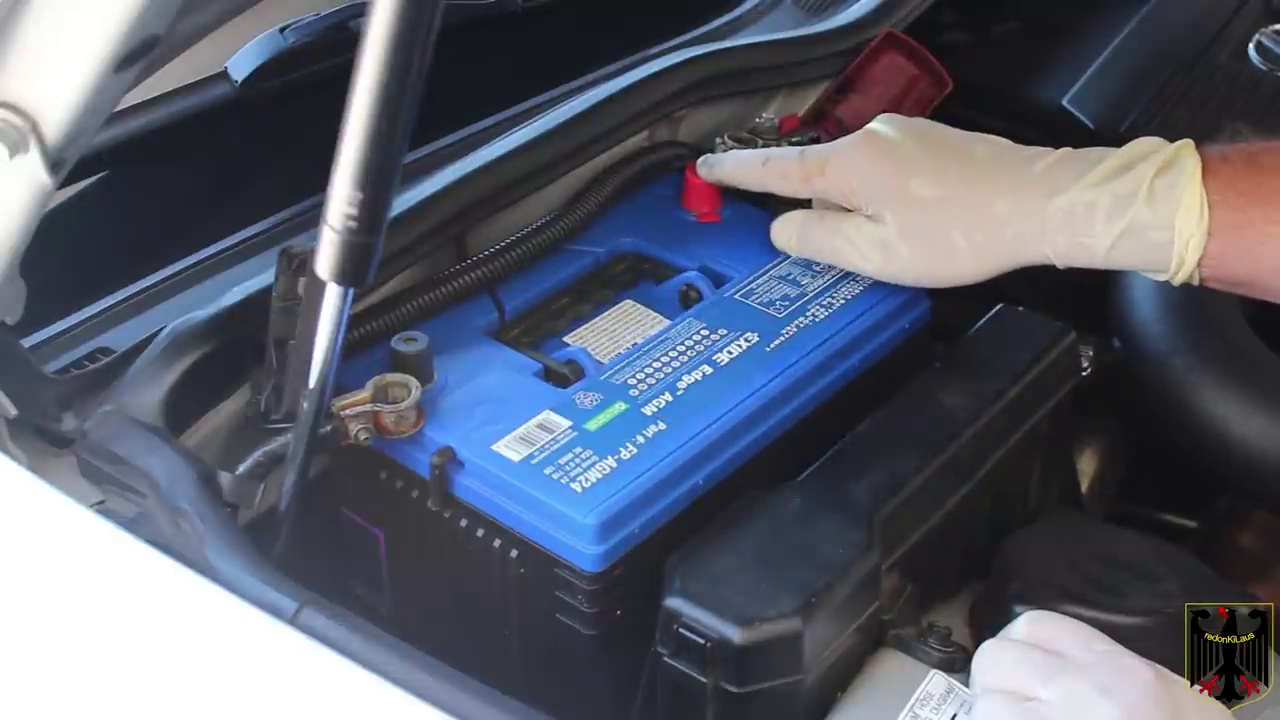battery: (312, 151, 932, 523)
pos_touched: (651, 24, 939, 272)
